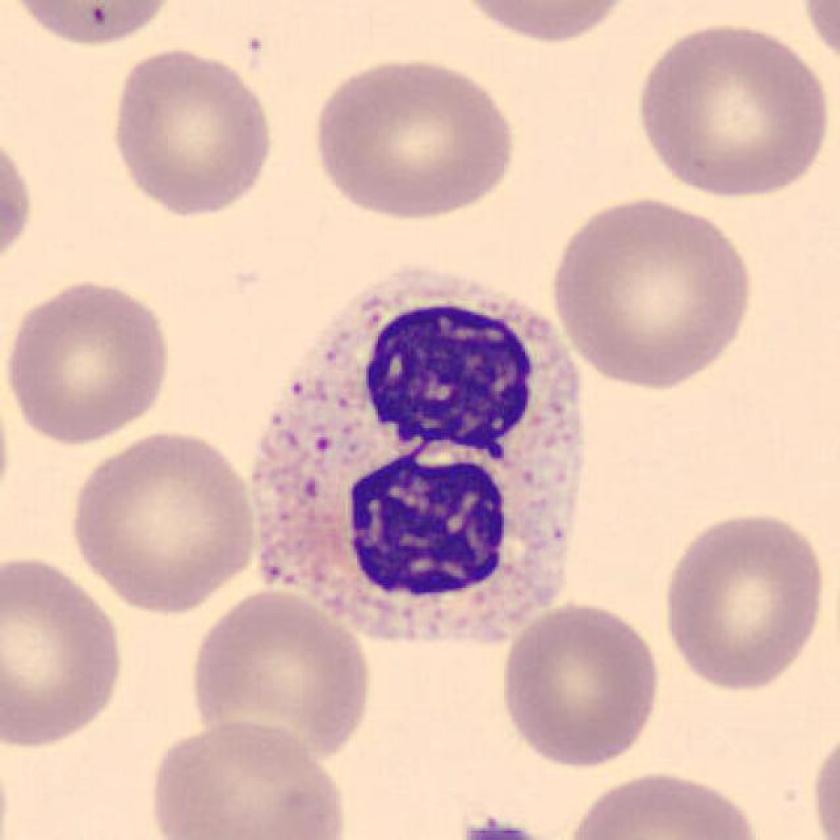neutrophil: (250, 273, 584, 640)
